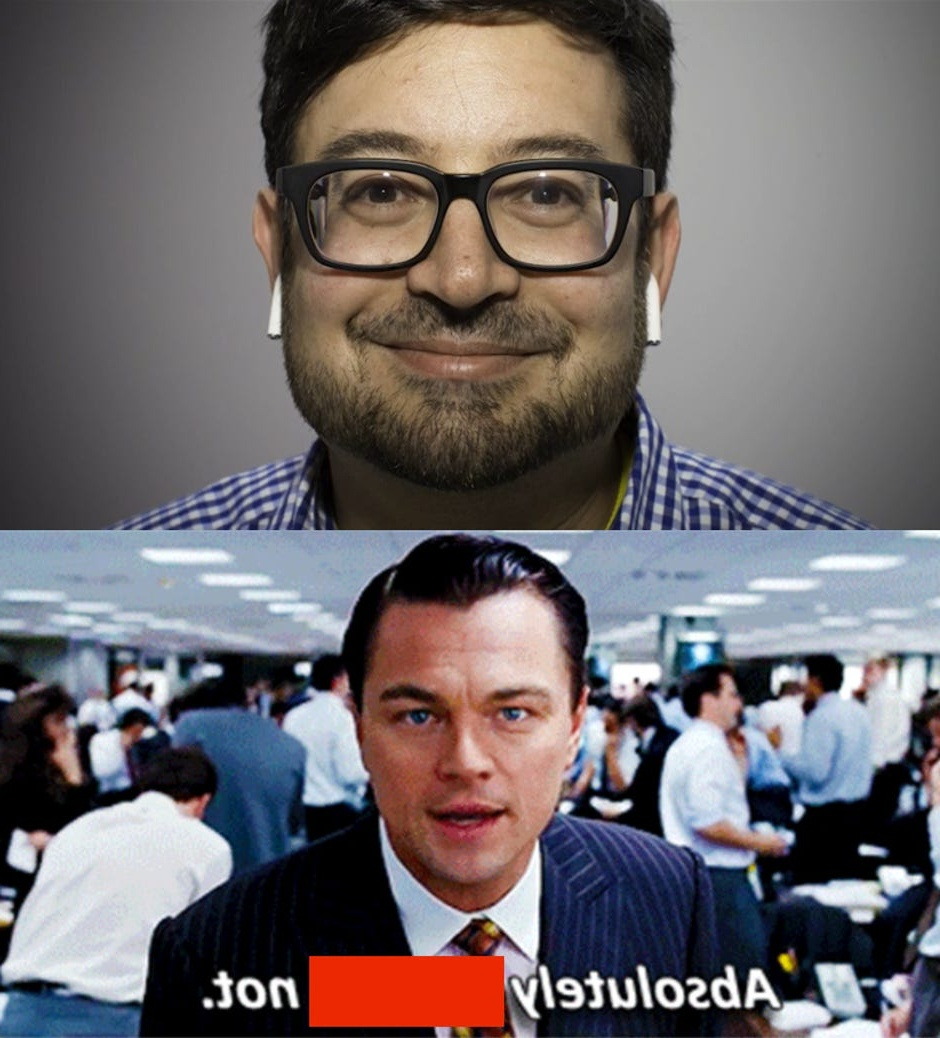earphone: (640, 191, 683, 347), (252, 188, 288, 340)
